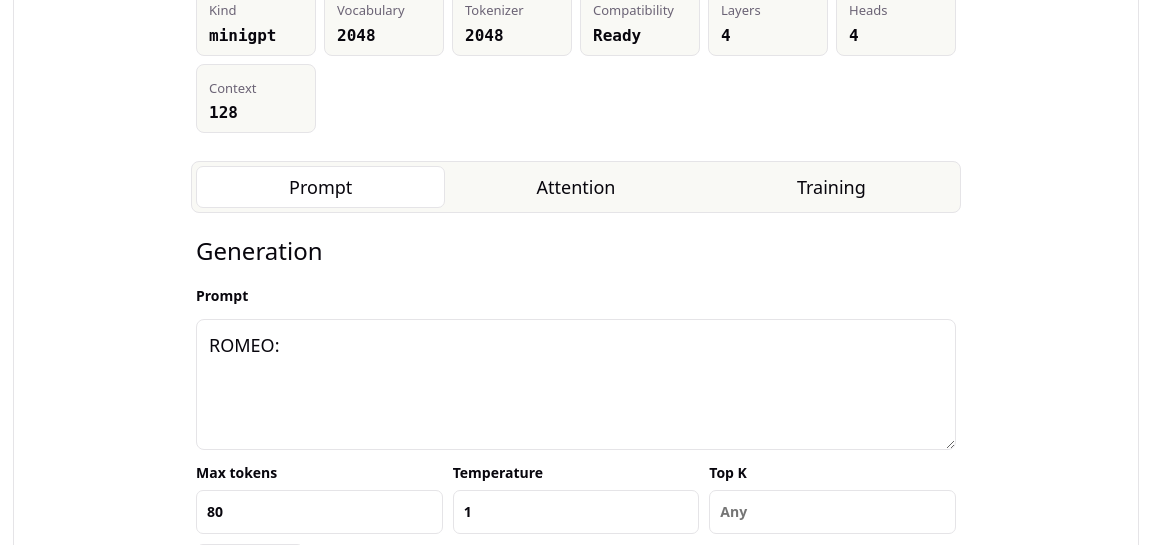
Scenario: App generation flow › posts the prompt and renders generated text, tokens, and attention controls
Expected: the text "Ready" is shown, [593,26,641,44]
Step 1. Replace the text in the text box labelled "Prompt" with "hello" → (576, 385), box [196,320,956,450]
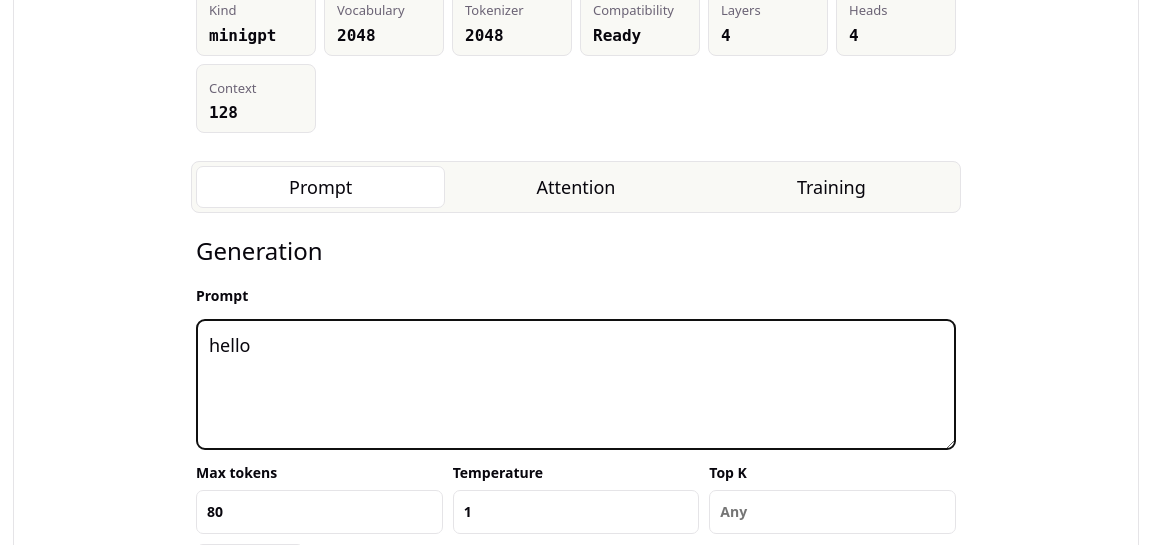
Step 2. Replace the text in the number field labelled "Max tokens" with "12" → (319, 512), box [196,490,443,534]
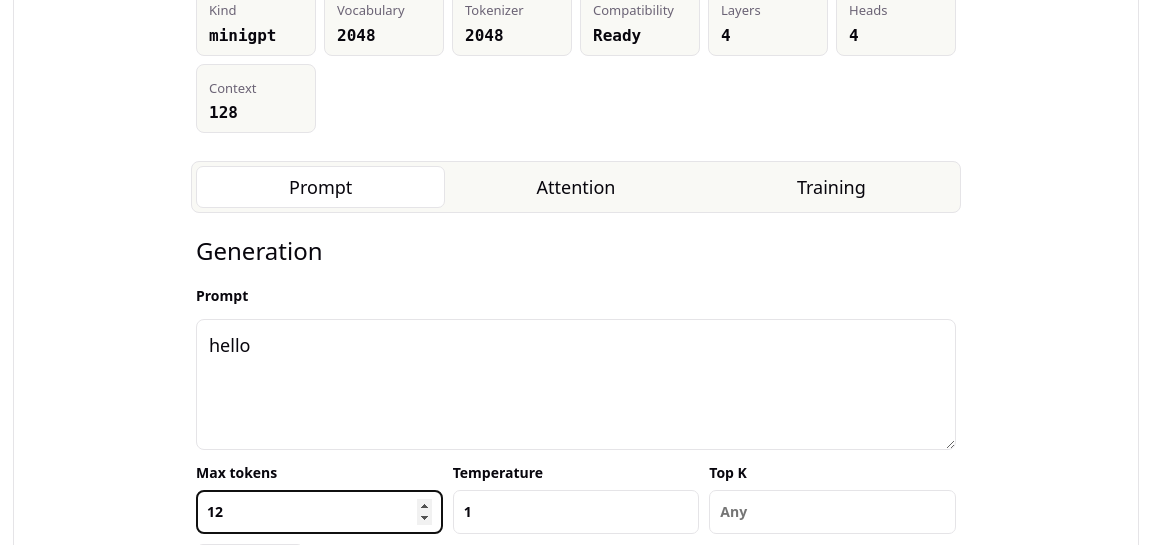
Step 3. Replace the text in the number field labelled "Temperature" with "0.75" → (576, 512), box [453,490,699,534]
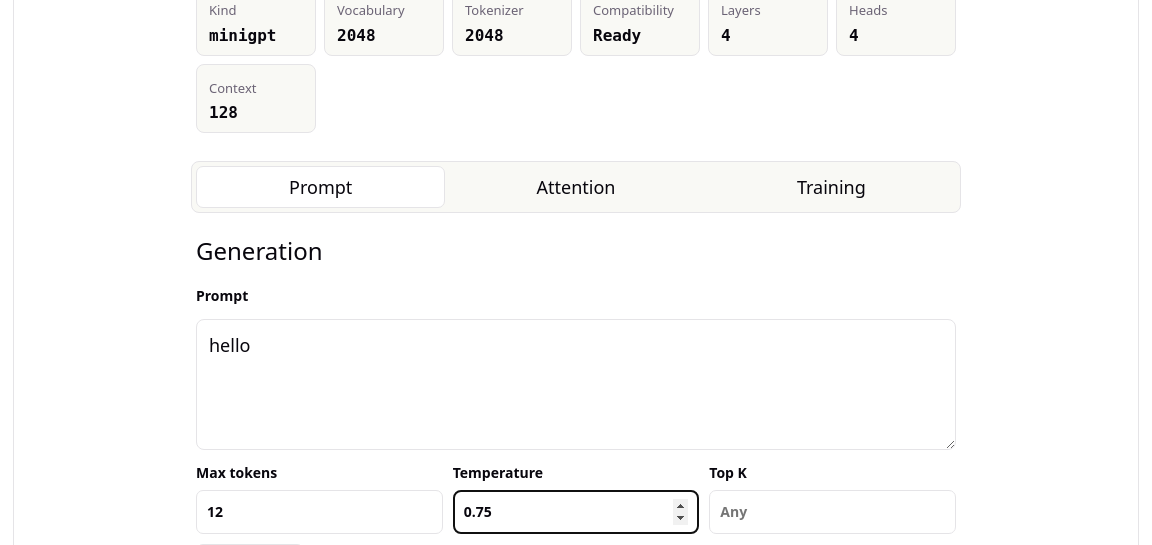
Step 4. Type "4" into the number field labelled "Top K" → (833, 512), box [709,490,956,534]
(page scrolled)
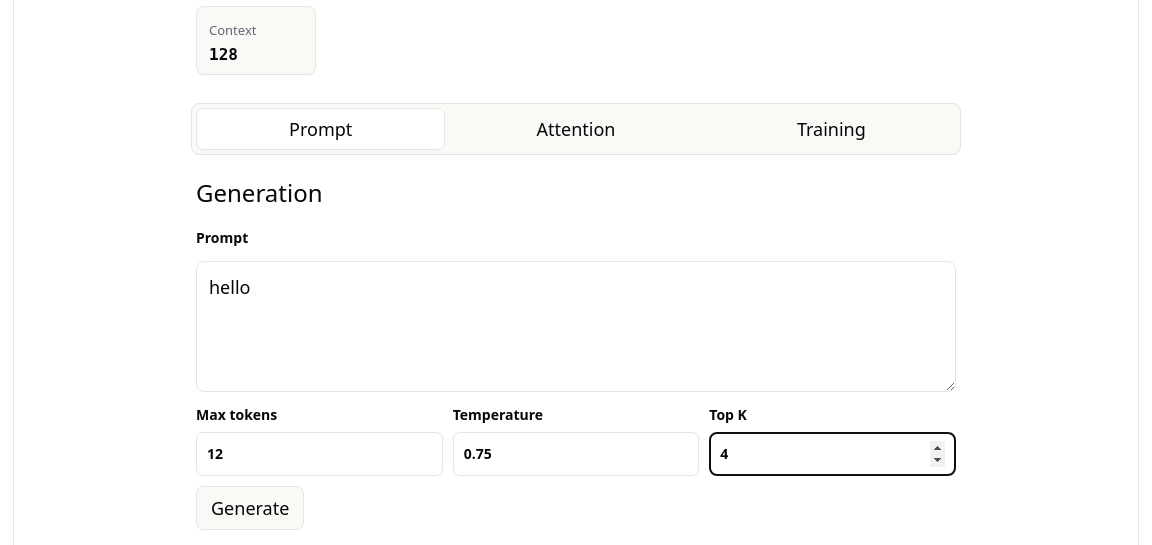
Step 5. Click the button "Generate" → (250, 508), box [196,486,304,530]
(page scrolled)
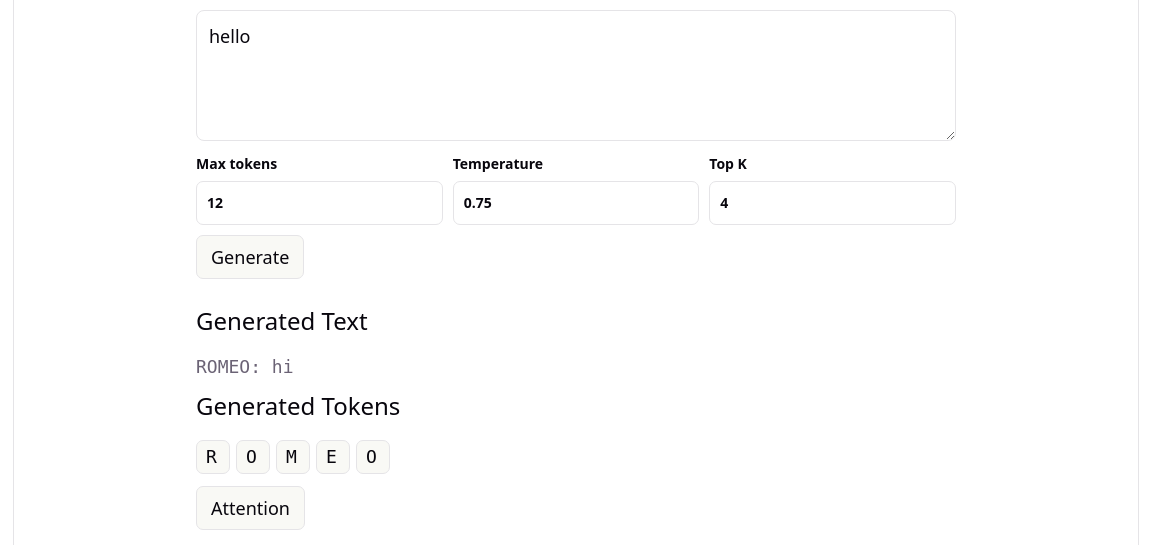
Expected: the text "ROMEO: hi" is shown, [196,356,294,377]
Expected: the list named "generated tokens" is shown, [196,440,390,474]
Expected: the button "Attention" is shown
Step 6. Click the button "Attention" → (250, 508), box [196,486,305,530]
(page scrolled)
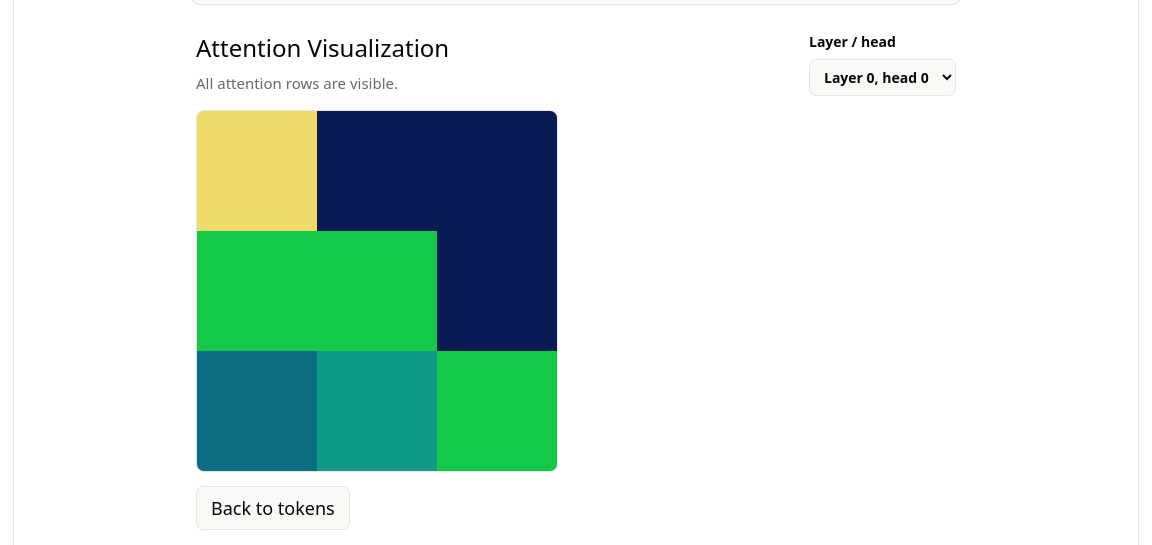
Expected: the dropdown labelled "Layer / head" shows "Layer 0, head 0", [809,59,956,96]
Expected: the picture named "attention weight heatmap" is shown, [196,110,558,472]
